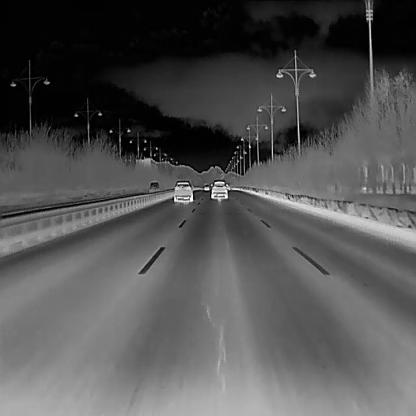car: (172, 179, 192, 202), (210, 179, 227, 199), (148, 180, 159, 192), (203, 181, 208, 189), (225, 183, 231, 189)
